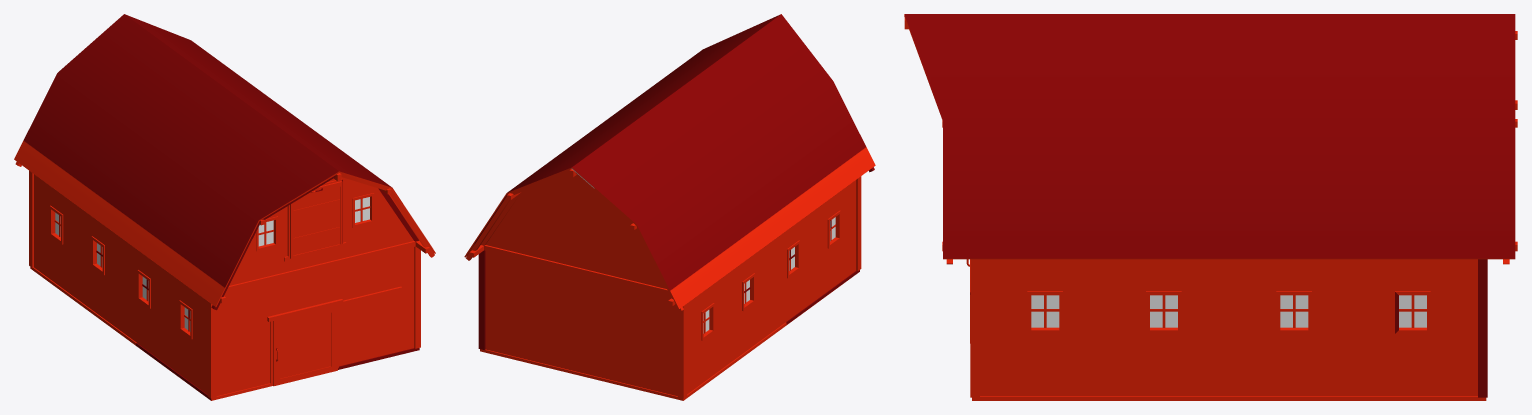
The model's file is barn.FBX.
3 views of the same model, side by side, from view 1: azimuth 30°, elevation 25°; view 2: azimuth 150°, elevation 25°; view 3: azimuth 270°, elevation 25° (orthographic). The views are drawn at different scales.
Visible parts, largest first — view 1: RedBarn15; view 2: RedBarn15; view 3: RedBarn15.
Part boxes in pixels (x1=…): RedBarn15: x1=14, y1=14, x2=435, y2=400; RedBarn15: x1=464, y1=14, x2=875, y2=400; RedBarn15: x1=904, y1=14, x2=1517, y2=400.
Size of the model in its own units: 1054 by 1007 by 1779.
Materials: 1 (1 with a texture image).
